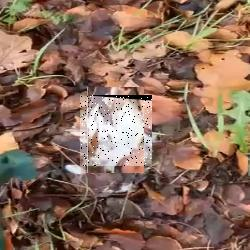restaffald: (80, 95, 152, 166)
